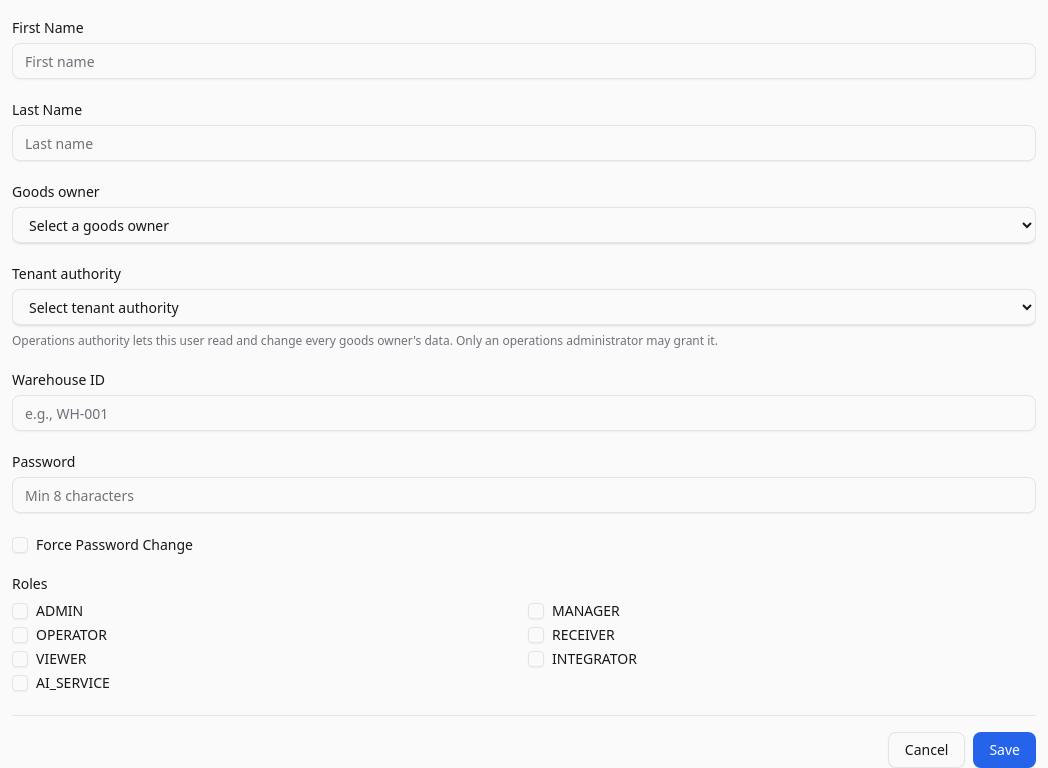
it: UserForm › shows validation errors for empty required fields in create mode
(page scrolled)
Click the button "Save".
click(1005, 750)  # box left=973, top=732, right=1036, bottom=767
(page scrolled)
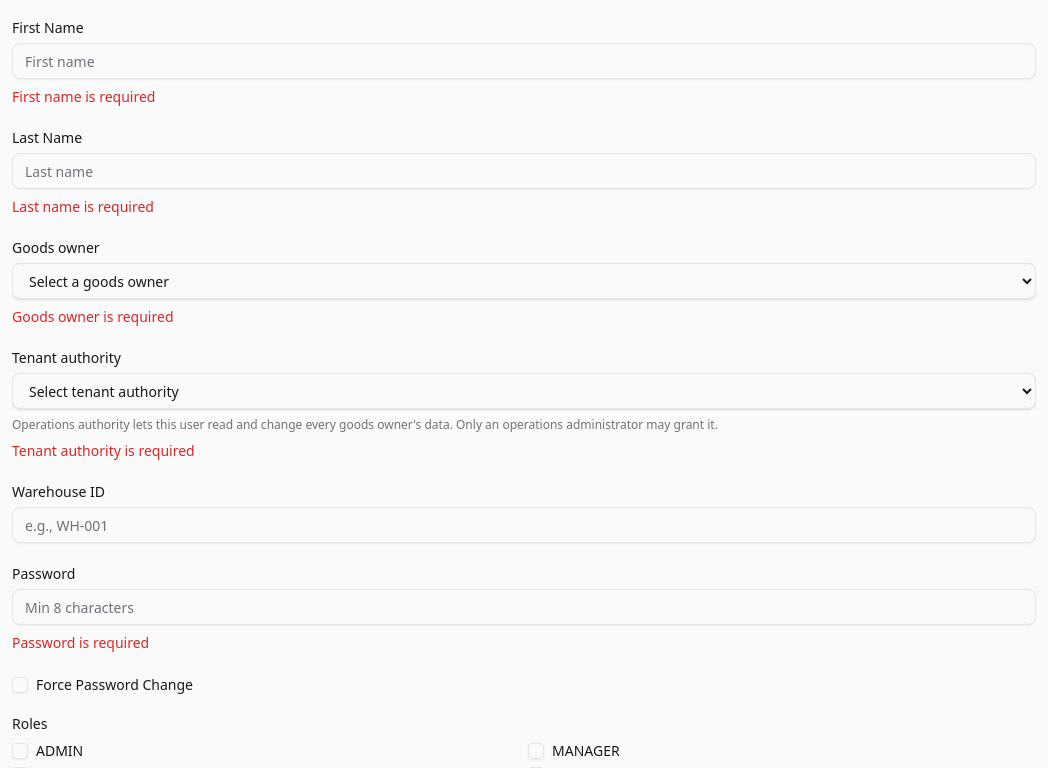
Expected: the text "Goods owner is required" is shown, left=12, top=307, right=174, bottom=326
Expected: the text "Tenant authority is required" is shown, left=12, top=441, right=195, bottom=460
